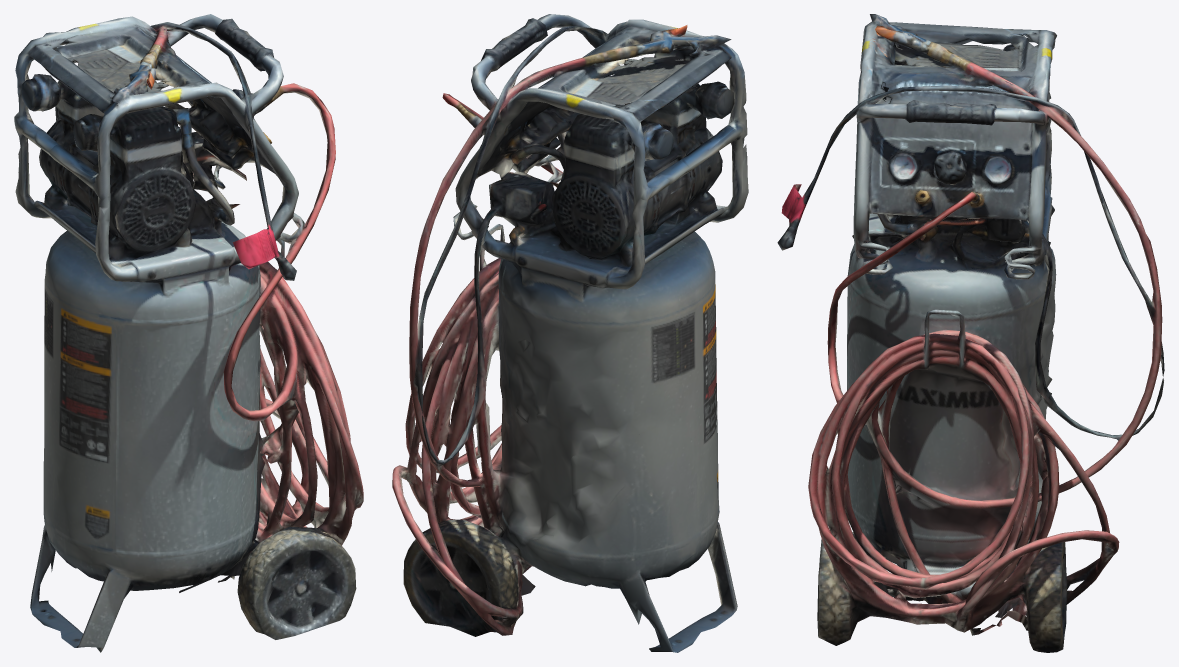
Rendered from whisper.glb.
3 views of the same model, side by side, from view 1: azimuth 30°, elevation 25°; view 2: azimuth 150°, elevation 25°; view 3: azimuth 270°, elevation 25° (orthographic). The views are drawn at different scales.
Parts seen in each view (by area): view 1: whisper; view 2: whisper; view 3: whisper.
Part boxes in pixels (x1,y1,x2,y2): whisper: (14,14,363,652); whisper: (392,14,748,652); whisper: (777,14,1164,652).
Size of the model in its own units: 2.64 by 5.13 by 3.29.
Materials: 1 (1 with a texture image).
